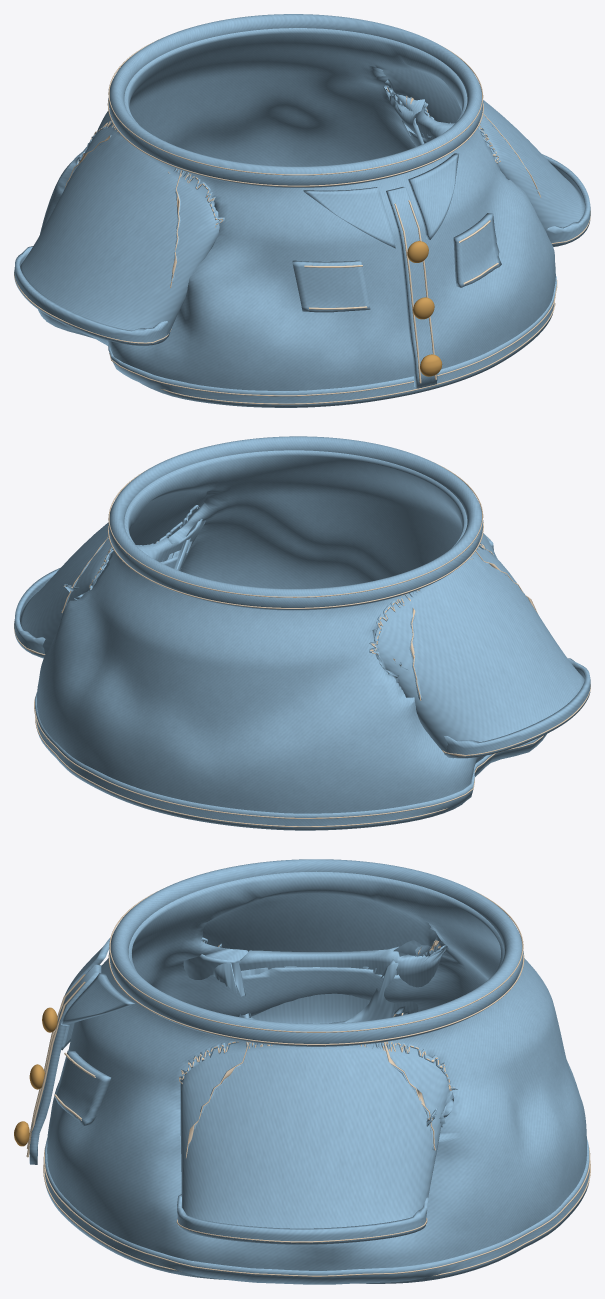
The model's file is sewn_jacket_denim_chick.glb.
3 renders of one model, top to bottom at view 1: azimuth 30°, elevation 25°; view 2: azimuth 150°, elevation 25°; view 3: azimuth 270°, elevation 25°, orthographic. The views are drawn at different scales.
Parts seen in each view (by area): view 1: Manga adaptada · Camiseta cosida continua, Dobladillo de algodón · Cuello, Dobladillo de algodón · Bajo, Panel · tapeta central cosida, Panel · bolsillo pecho -1, Dobladillo de manga cosida -1, Panel · solapa -1, Panel · solapa 1, Panel · bolsillo pecho 1, Dobladillo de manga cosida 1, Pespunte · Cuello.001, Pespunte · Bajo.001 (+2 smaller); view 2: Manga adaptada · Camiseta cosida continua, Dobladillo de algodón · Cuello, Dobladillo de algodón · Bajo, Dobladillo de manga cosida -1, Dobladillo de manga cosida 1, Pespunte · Bajo.001, Pespunte · Cuello.001, Pespunte · Bajo, Pespunte · Cuello; view 3: Manga adaptada · Camiseta cosida continua, Dobladillo de algodón · Cuello, Dobladillo de algodón · Bajo, Dobladillo de manga cosida 1, Panel · bolsillo pecho 1, Dobladillo de manga cosida -1, Panel · tapeta central cosida, Panel · solapa 1, Pespunte · Bajo.001, Pespunte · Cuello.001, Unión textil de la sisa 1 4, Pespunte · Cuello (+1 smaller).
Boxes of the visible parts, x1,y1,x2,y2 form: Manga adaptada · Camiseta cosida continua: (20,28,585,390); Dobladillo de algodón · Cuello: (108,14,483,187); Dobladillo de algodón · Bajo: (38,276,556,407); Panel · tapeta central cosida: (386,187,437,388); Panel · bolsillo pecho -1: (292,260,370,312); Dobladillo de manga cosida -1: (14,246,170,345); Panel · solapa -1: (303,187,395,248); Panel · solapa 1: (408,153,458,239); Panel · bolsillo pecho 1: (453,213,501,287); Dobladillo de manga cosida 1: (413,118,590,246); Pespunte · Cuello.001: (108,39,483,175); Pespunte · Bajo.001: (109,279,557,396); Manga adaptada · Camiseta cosida continua: (20,450,584,813); Dobladillo de algodón · Cuello: (108,436,483,610); Dobladillo de algodón · Bajo: (35,692,546,830); Dobladillo de manga cosida -1: (444,658,590,758); Dobladillo de manga cosida 1: (14,538,190,657); Pespunte · Bajo.001: (34,696,543,818); Pespunte · Cuello.001: (108,461,483,597); Pespunte · Bajo: (35,716,448,827); Pespunte · Cuello: (107,522,483,608); Manga adaptada · Camiseta cosida continua: (47,871,586,1279); Dobladillo de algodón · Cuello: (109,859,523,1046); Dobladillo de algodón · Bajo: (44,1137,589,1284); Dobladillo de manga cosida 1: (177,1194,428,1244); Panel · bolsillo pecho 1: (54,1050,110,1125); Dobladillo de manga cosida -1: (212,959,401,1023); Panel · tapeta central cosida: (29,964,101,1164); Panel · solapa 1: (61,973,134,1025); Pespunte · Bajo.001: (43,1146,590,1276); Pespunte · Cuello.001: (109,891,523,1032); Unión textil de la sisa 1 4: (179,1041,457,1126); Pespunte · Cuello: (108,953,524,1045).
Size of the model in its own units: 0.7221 by 0.2738 by 0.6221.
Materials: 4 (1 with a texture image).
